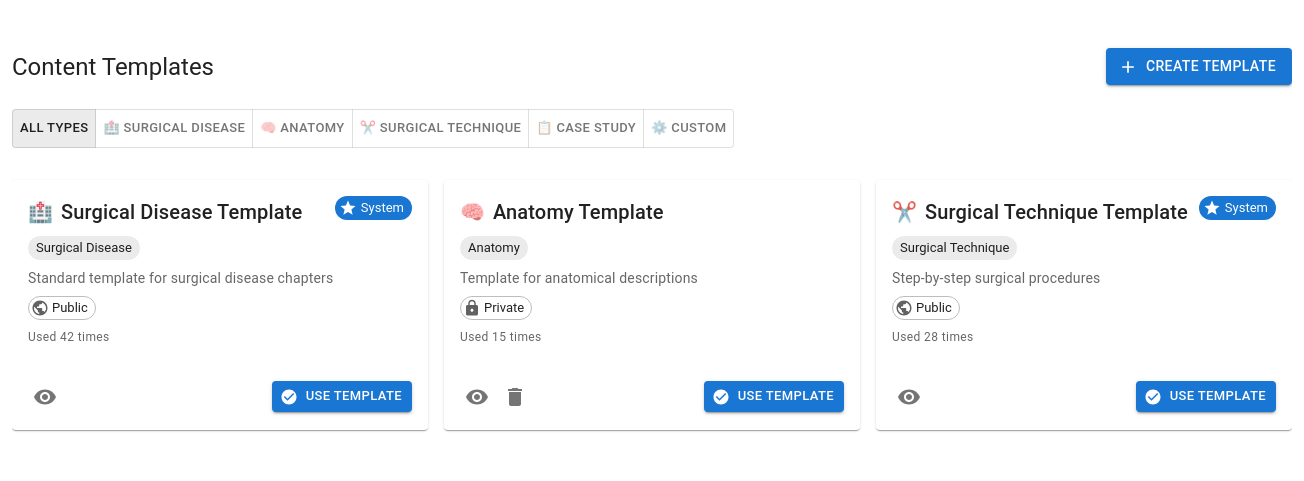
Test: TemplateSelector Component › Apply Template › should handle apply error
Expected: the text "Surgical Disease Template" is shown, [61, 200, 302, 224]
Click the button "Use Template" below "42" at (342, 397), box [272, 381, 412, 412]
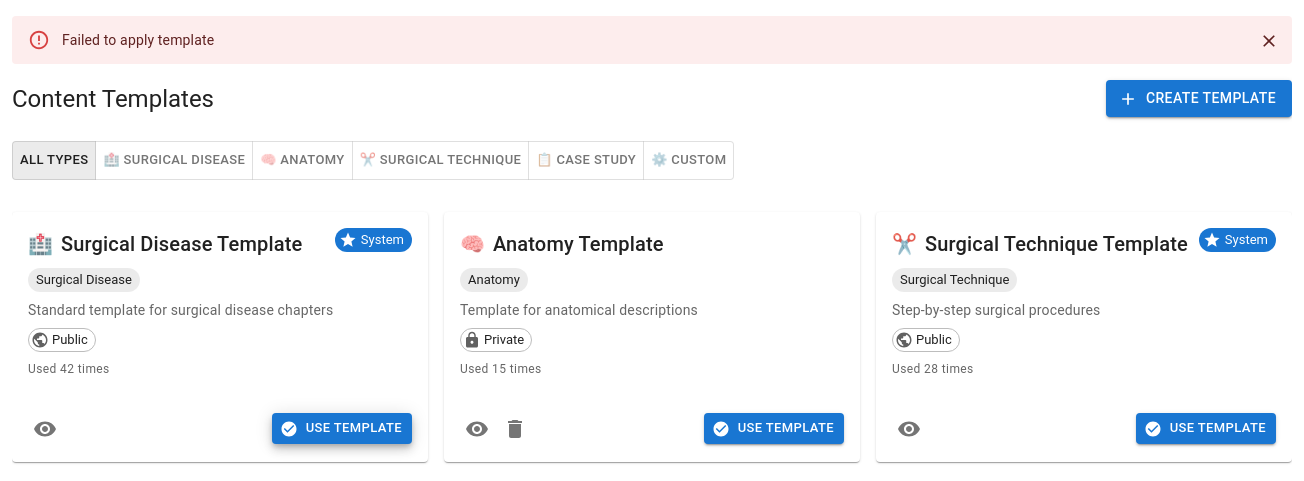
Result: the text "Failed to apply template" is shown at [62, 32, 214, 48]
